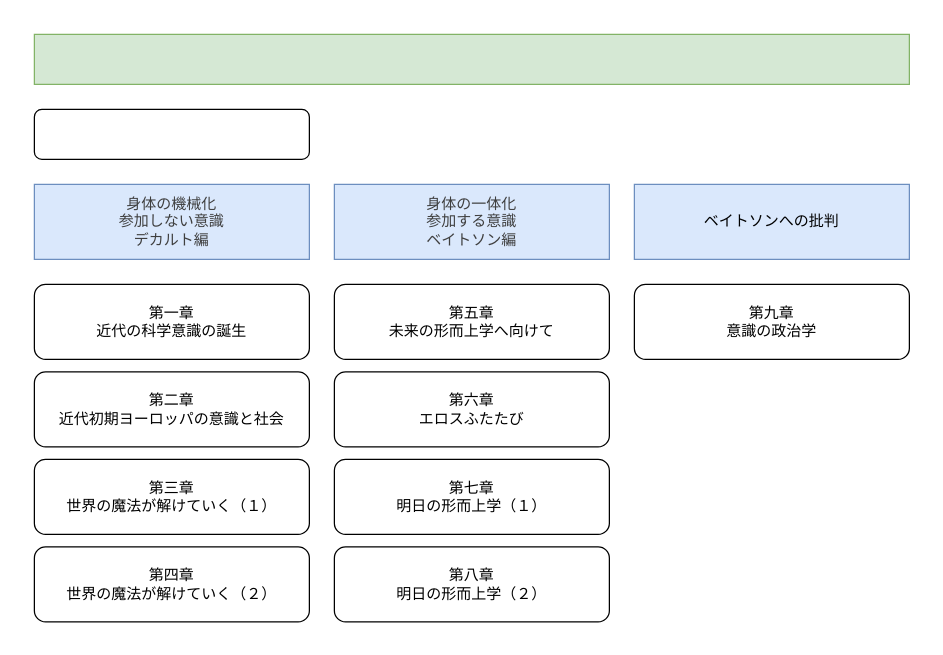
The diagram is 943 pixels wide and 655 high, and some of its shapes have lost their labels. Here are the shapes that lost their labels. From the top down, the box of each, then its label:
(33, 33, 909, 84): デカルトからベイトソンへ 目次の整理
(33, 108, 309, 159): 序章 近代のランドスケープ
